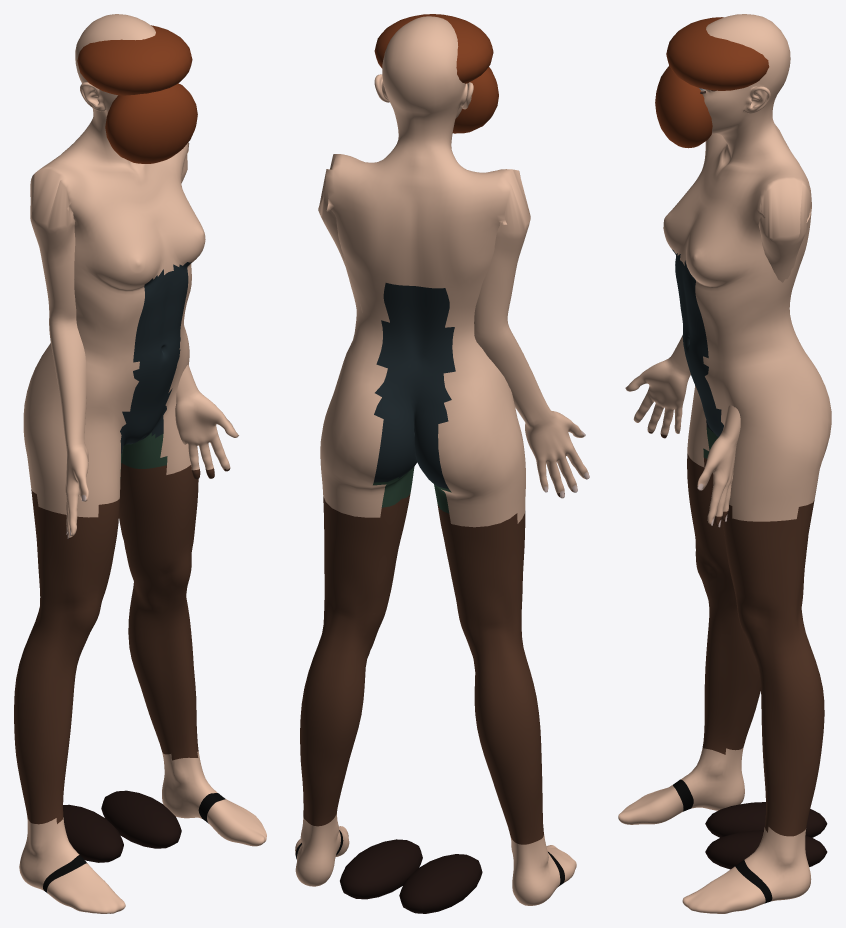
The model's file is hm_ped_ivy_v15.obj.
3 renders of one model, left to right at view 1: azimuth 30°, elevation 25°; view 2: azimuth 150°, elevation 25°; view 3: azimuth 270°, elevation 25°, orthographic. The views are drawn at different scales.
Visible parts, largest first — view 1: hm_ped_ivy; view 2: hm_ped_ivy; view 3: hm_ped_ivy.
Part boxes in pixels (x1,y1,x2,y2): hm_ped_ivy: (14,14,266,913); hm_ped_ivy: (295,14,589,913); hm_ped_ivy: (618,14,831,913).
Bounding box in the file's own units: 0.4918 × 1.66 × 0.384.
